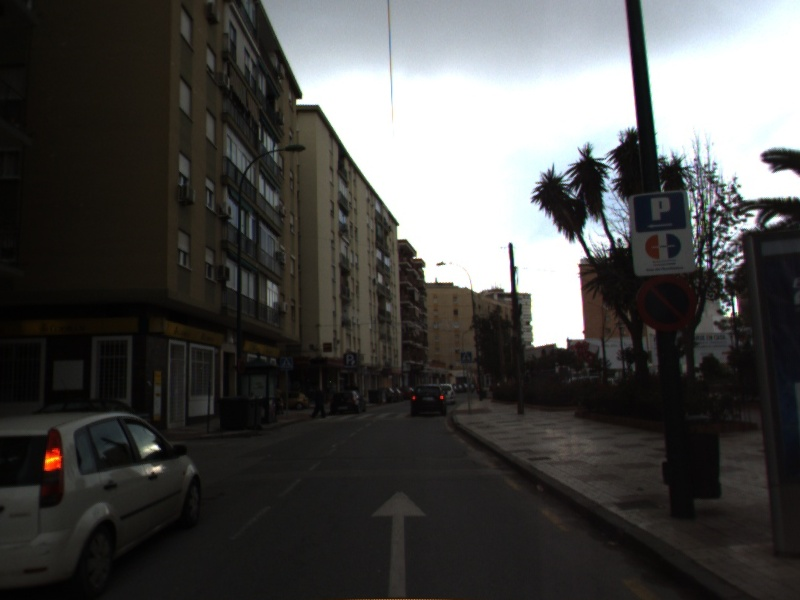STRAIGHT: (369, 488, 429, 599)
